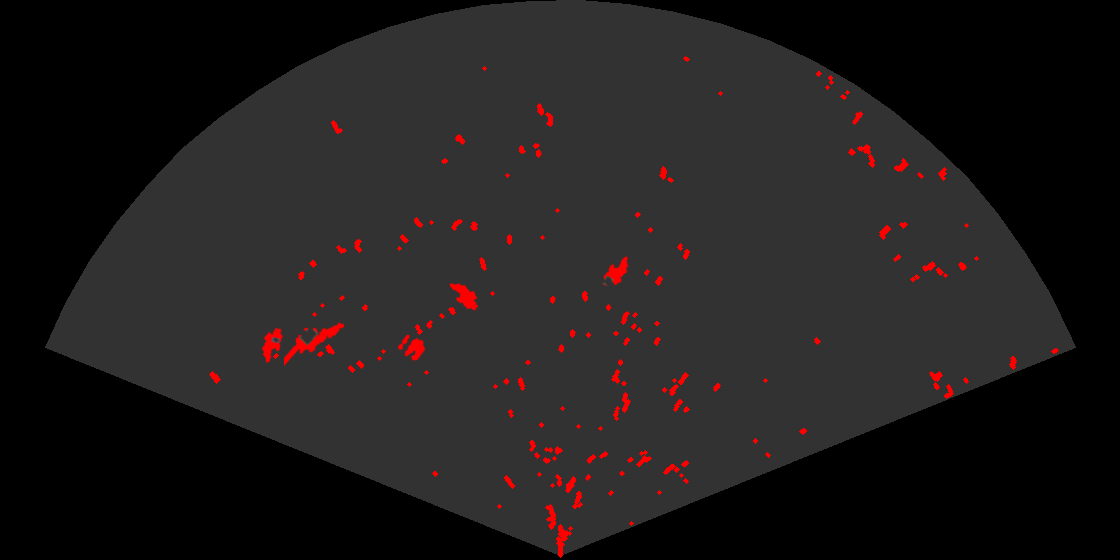AUV: (601, 254, 630, 288), (260, 326, 285, 365), (448, 282, 480, 312)
ball: (396, 333, 427, 362)
frogman: (284, 321, 346, 366)
